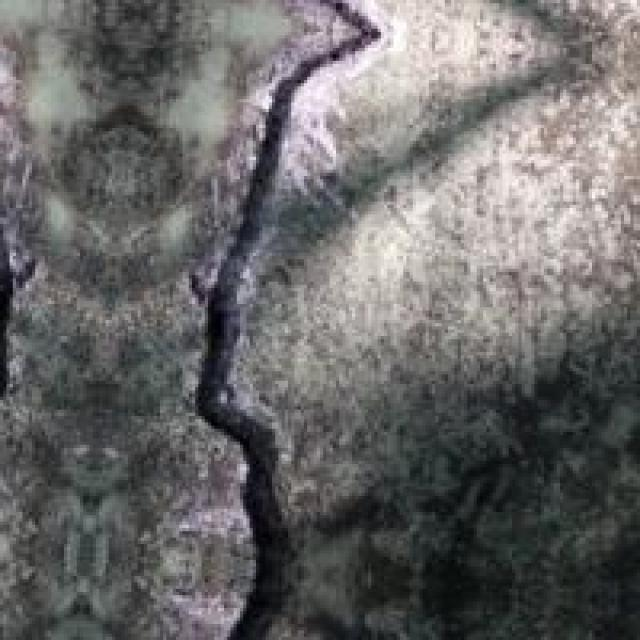crack: (160, 0, 384, 637)
